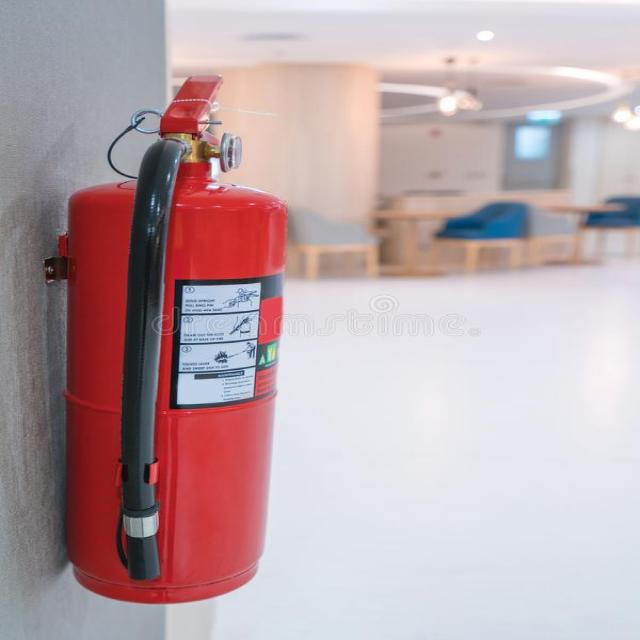fire_extinguisher: (39, 63, 298, 613)
